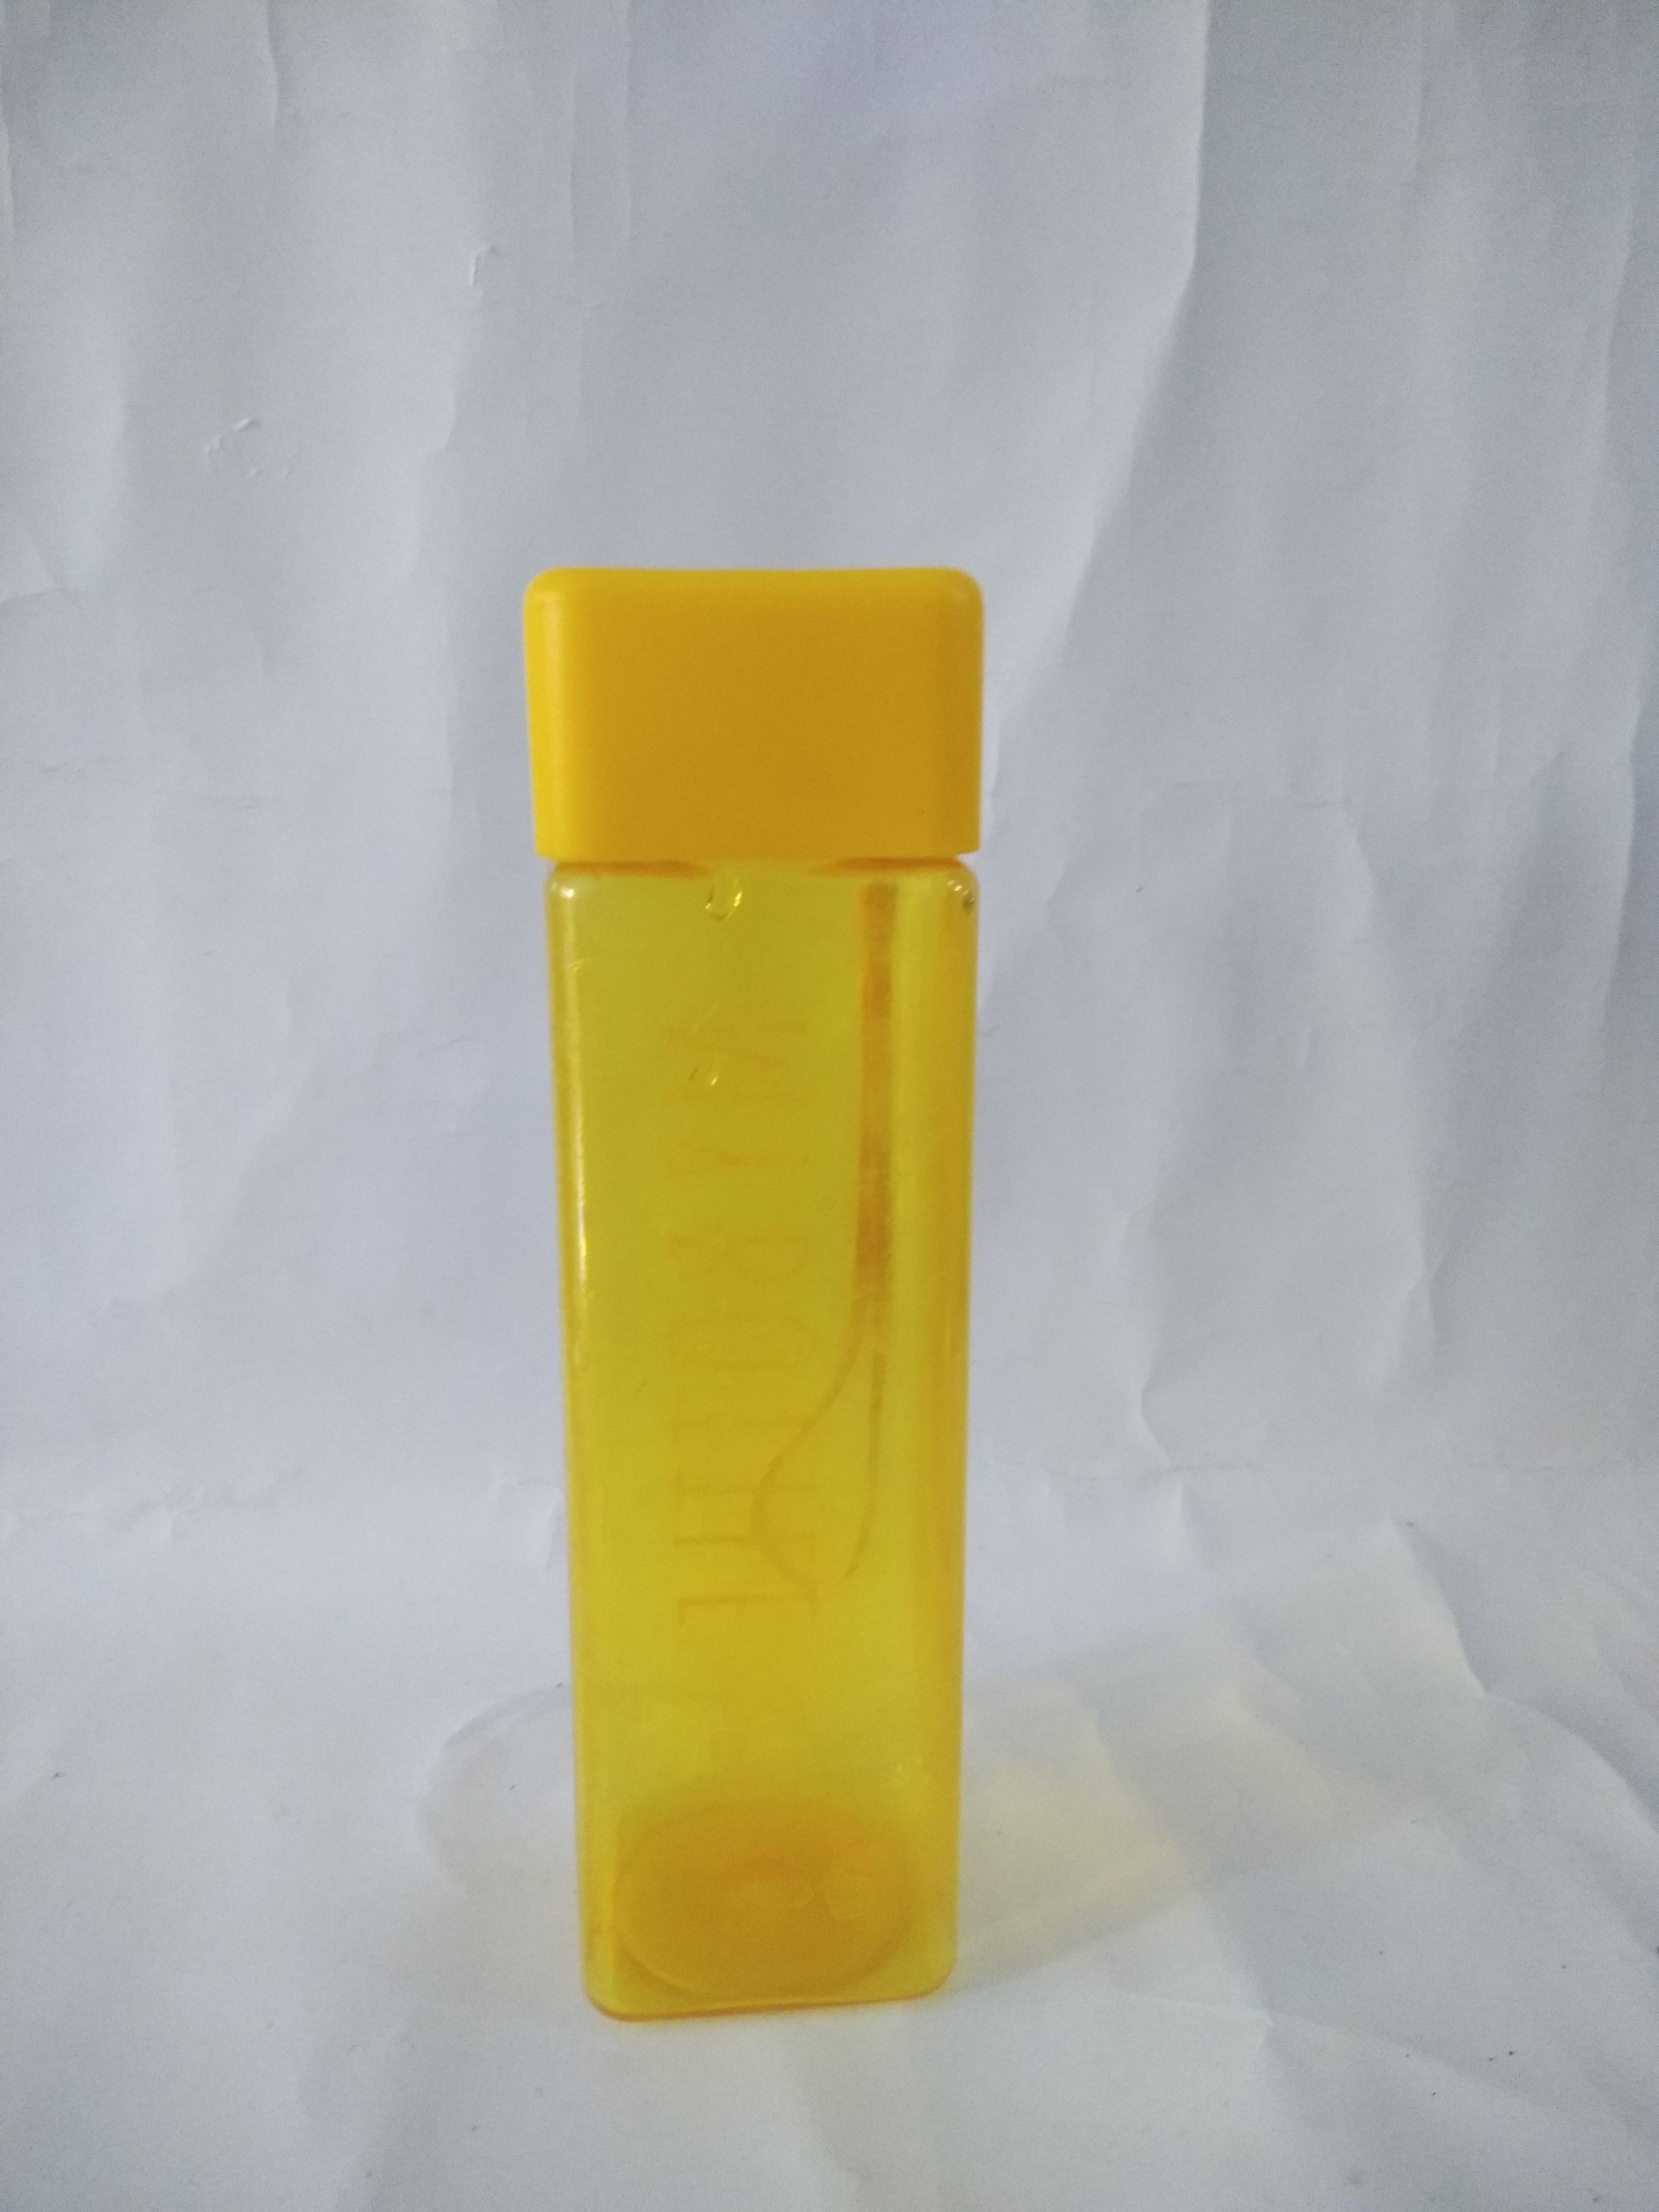PP: (528, 559, 985, 2013)
